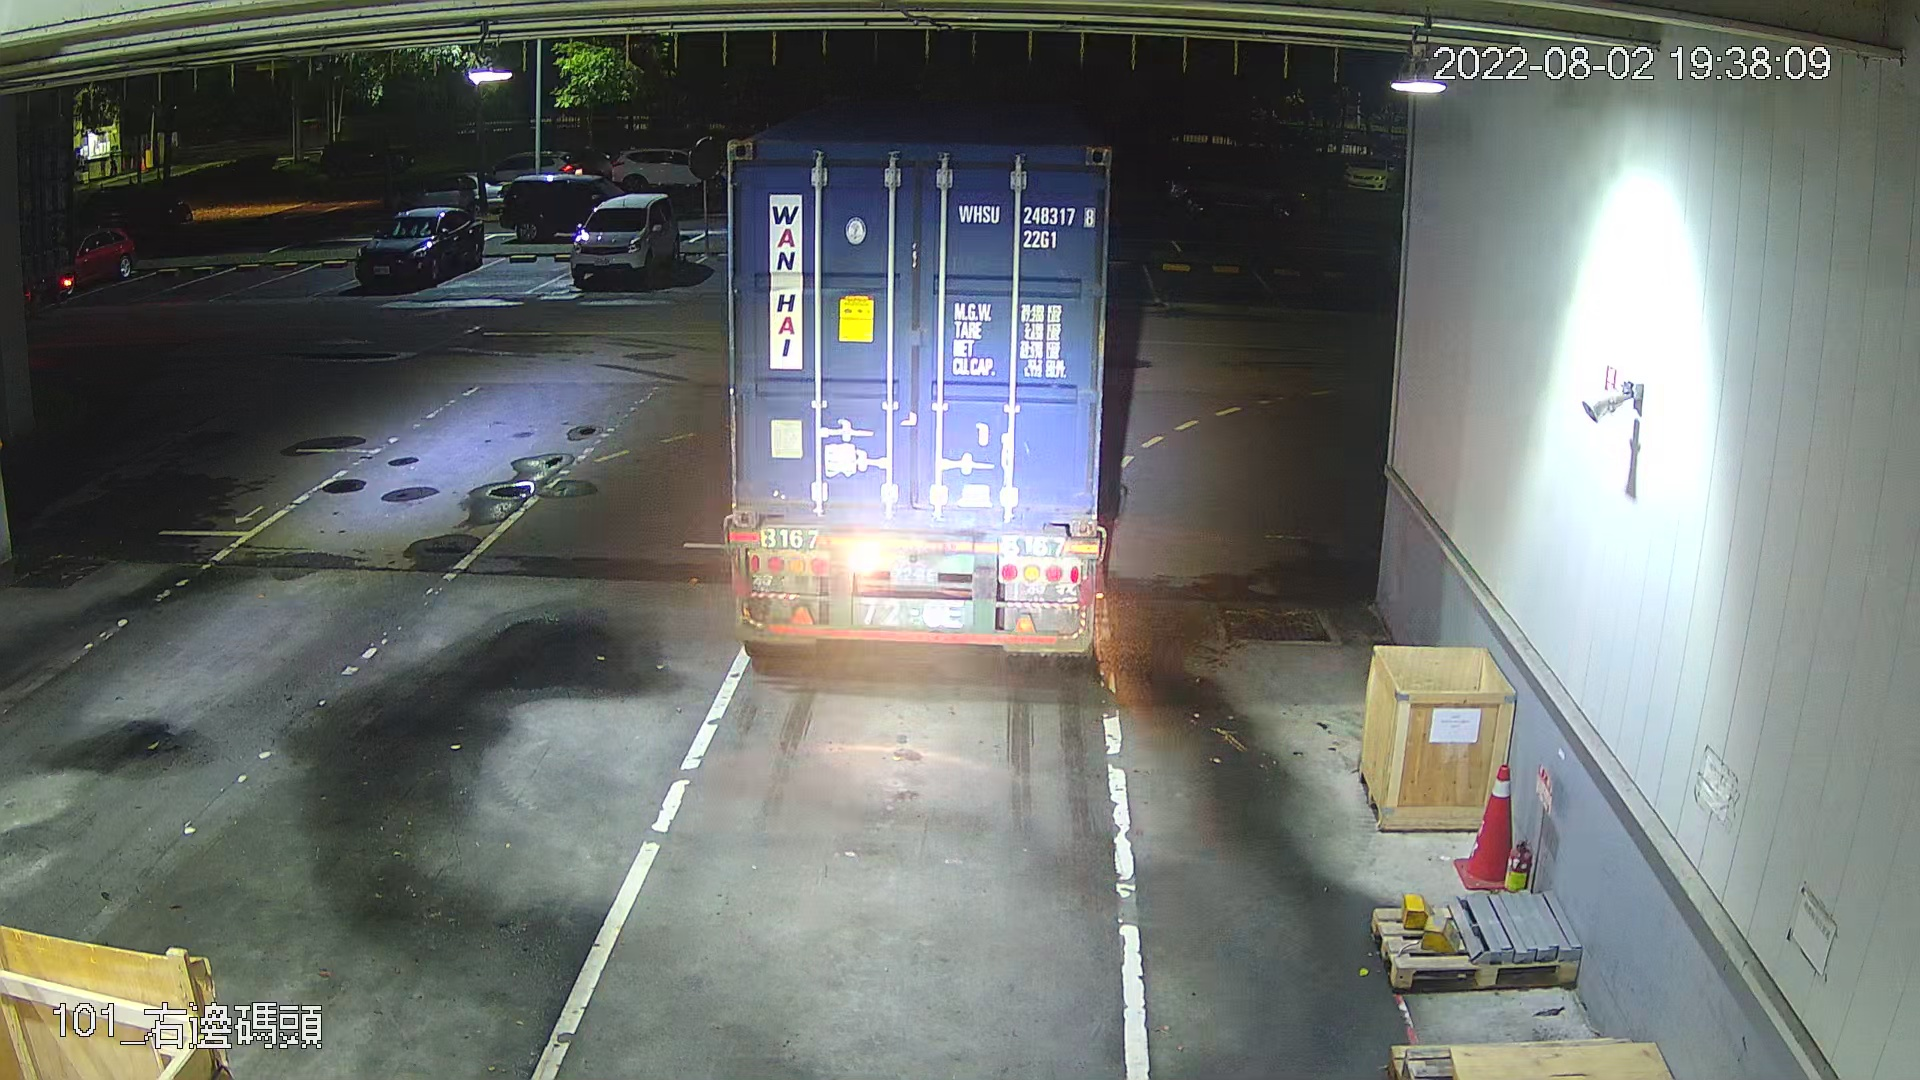container: (953, 196, 1102, 255)
